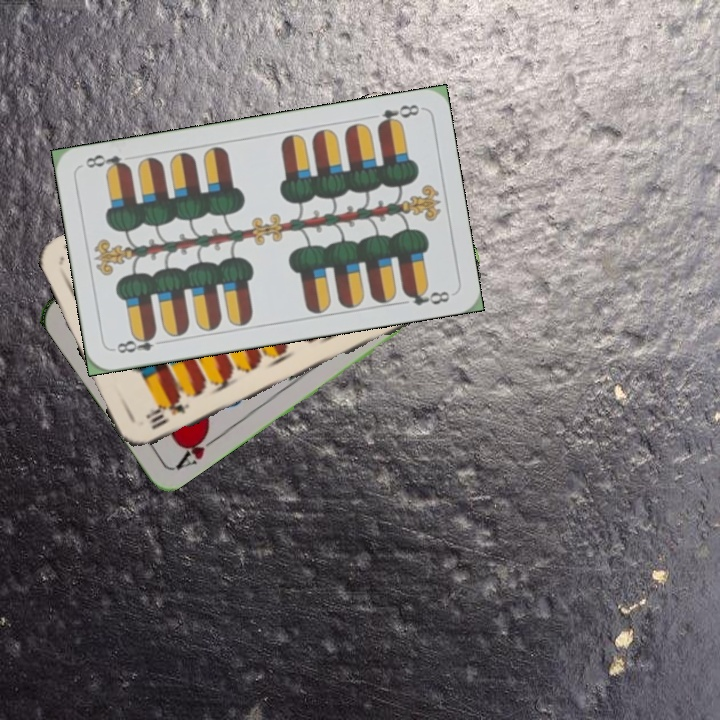E10: (141, 393, 192, 432)
E8: (109, 329, 168, 356), (373, 100, 422, 131)
HA: (171, 426, 222, 473)
